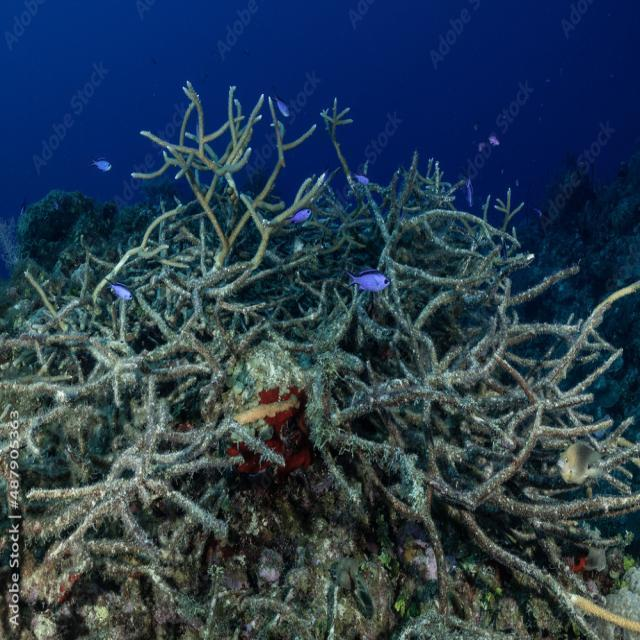Dead Coral: (9, 198, 640, 638)
